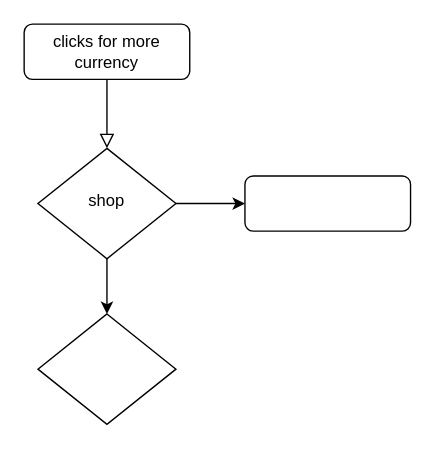
Some shapes in this 435 by 449 pixel diagram are drawn without their labels. The box of each missing label's shape, as (x1, y1, x2, y2) in pixels:
+click worth: (37, 313, 176, 424)
+currency/s: (244, 175, 411, 231)
